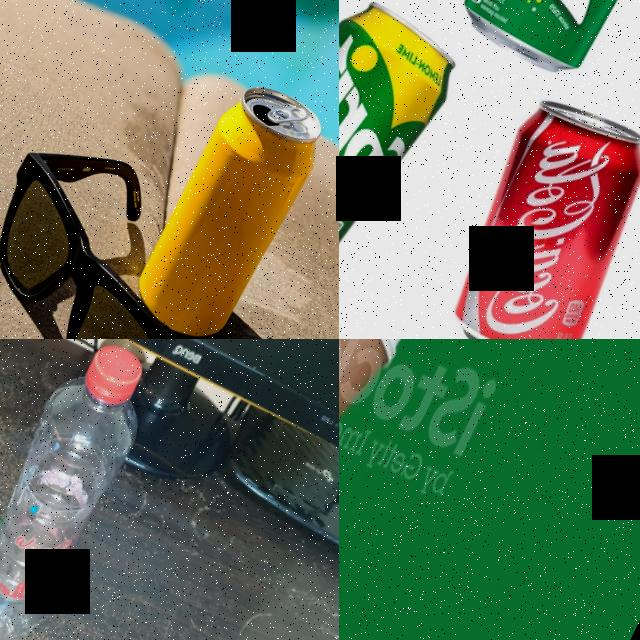bottle: (0, 339, 176, 640)
can: (116, 67, 339, 339), (422, 84, 640, 339), (339, 0, 471, 290), (451, 0, 640, 88)
cup: (339, 339, 424, 517)
